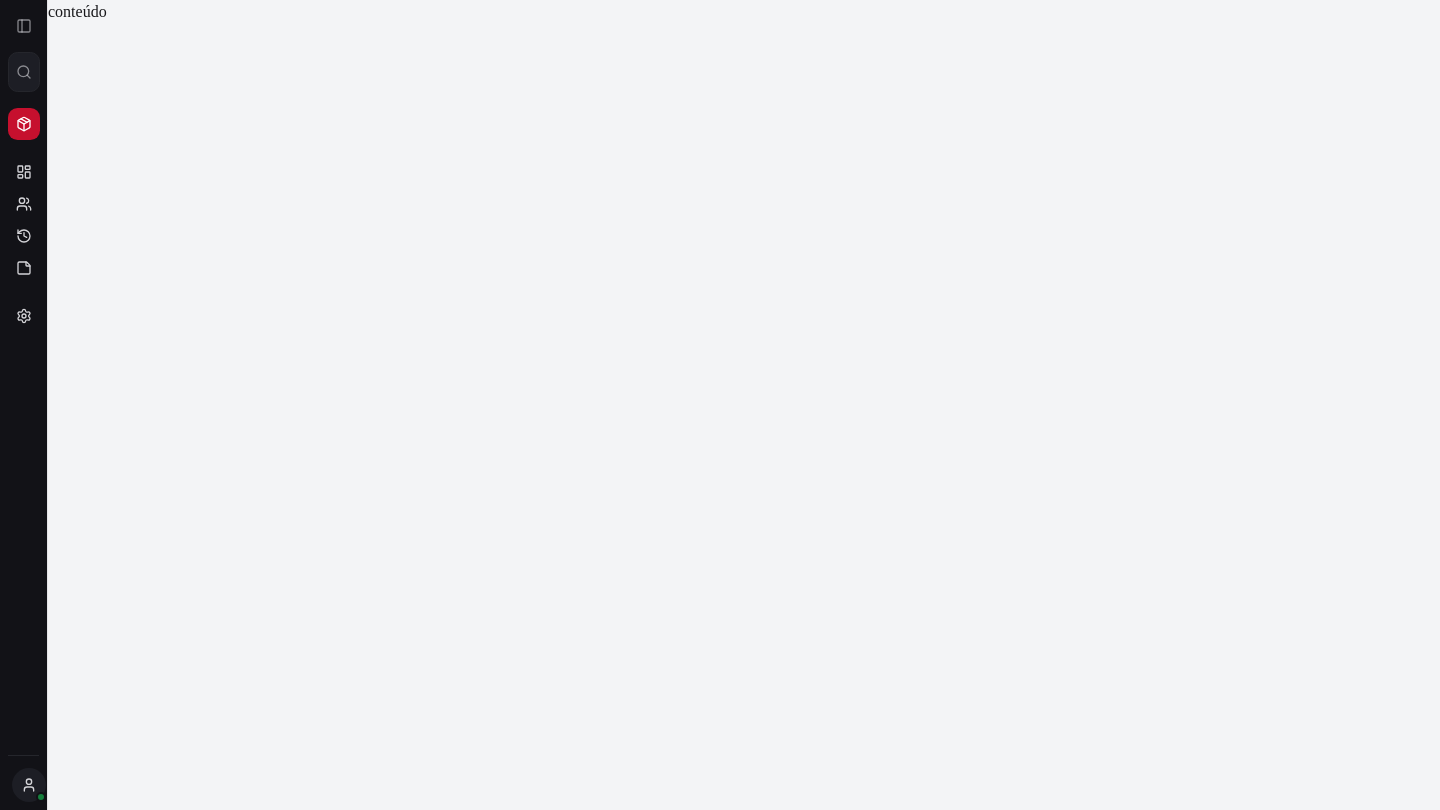
Test: AppShell — sidebar recolhida › com a sidebar recolhida, o botão de expandir continua aparecendo e volta ao normal (bug 21/10/2026)
The image size is (1440, 810).
Click the button named "Expandir menu" at [24, 26], box left=10, top=12, right=38, bottom=40
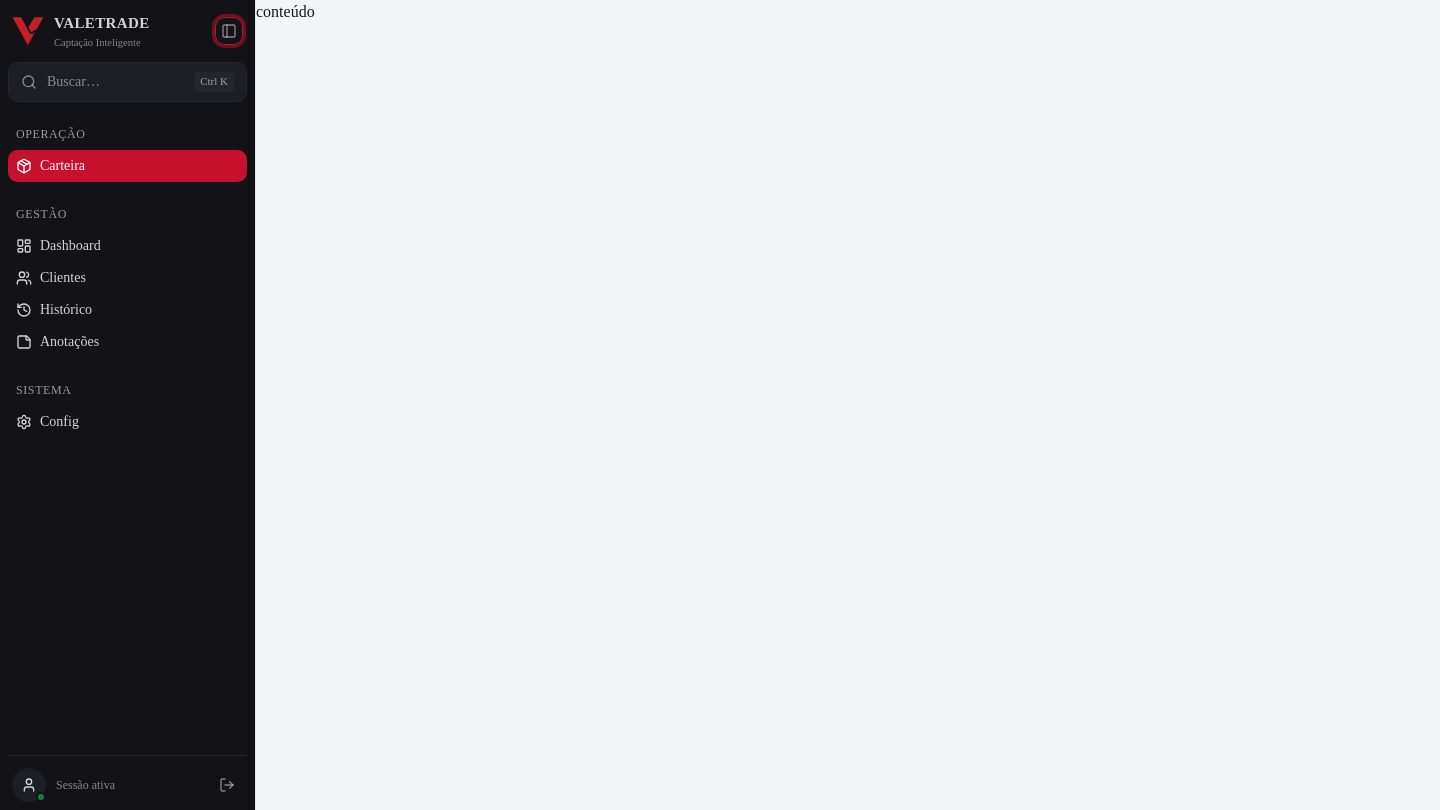
Result: the button named "Recolher menu" is shown at left=215, top=17, right=243, bottom=45
